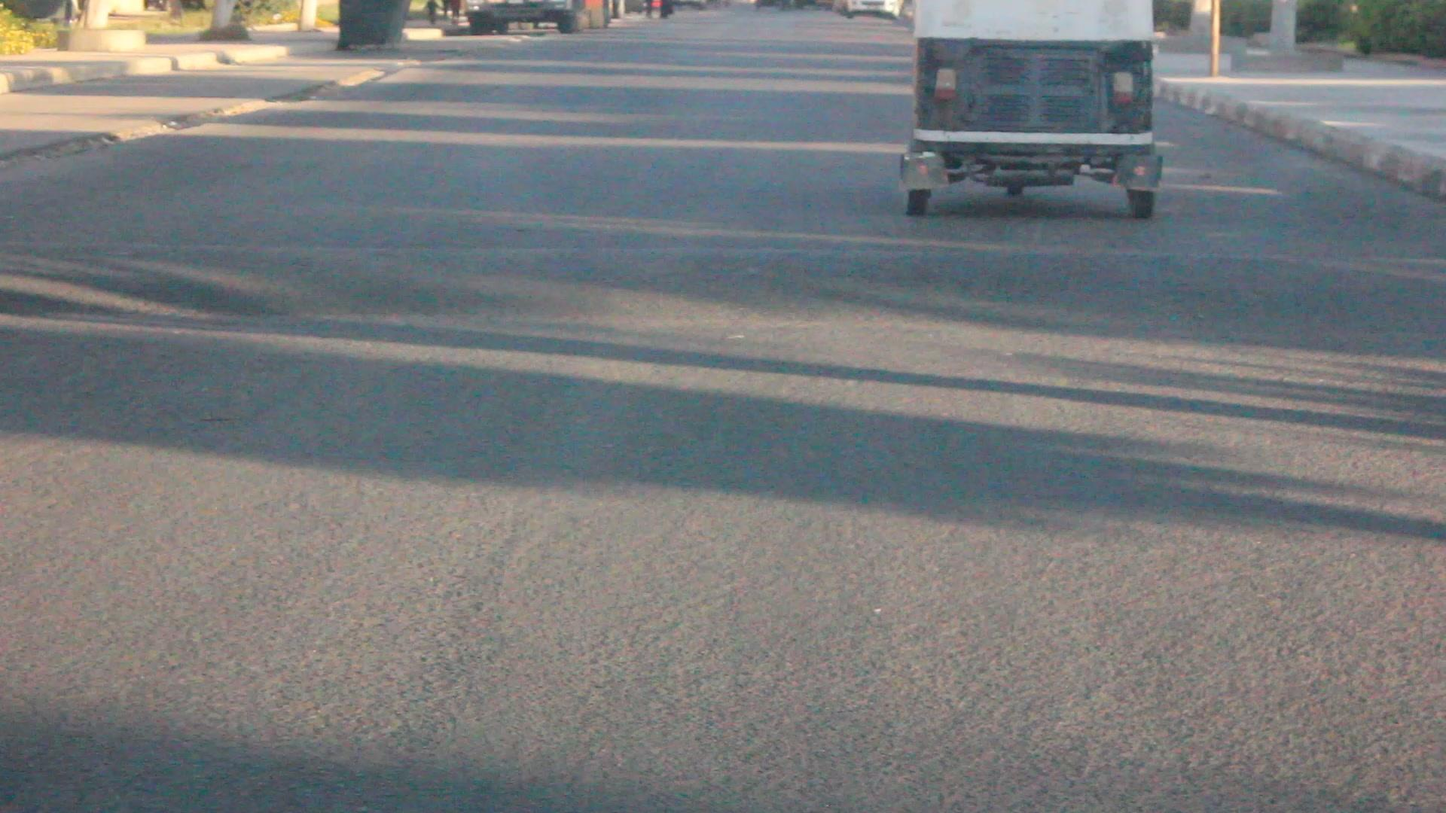Bump: (8, 233, 1446, 359)
